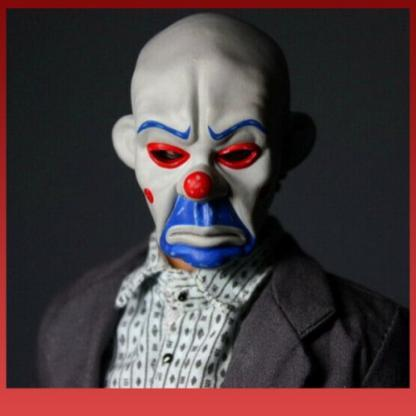criminal: (38, 13, 410, 389)
